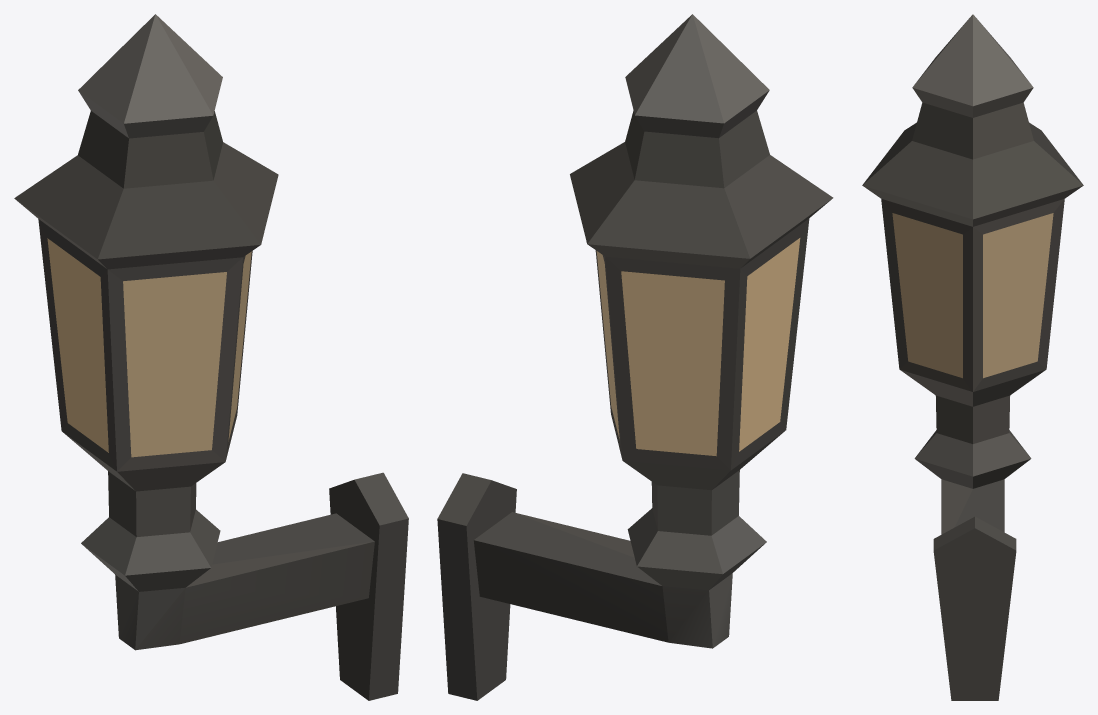
Rendered from WallLamp-Lit_A.fbx.
The picture shows the model from 3 angles, left to right: view 1: azimuth 30°, elevation 25°; view 2: azimuth 150°, elevation 25°; view 3: azimuth 270°, elevation 25°; orthographic projection. The views are drawn at different scales.
Visible parts, largest first — view 1: WallLamp-Lit_A; view 2: WallLamp-Lit_A; view 3: WallLamp-Lit_A.
Boxes of the visible parts, <box> form: WallLamp-Lit_A: <box>14,14,408,700</box>; WallLamp-Lit_A: <box>437,14,833,700</box>; WallLamp-Lit_A: <box>862,14,1083,700</box>.
Size of the model in its own units: 56.32 by 119 by 40.1.
